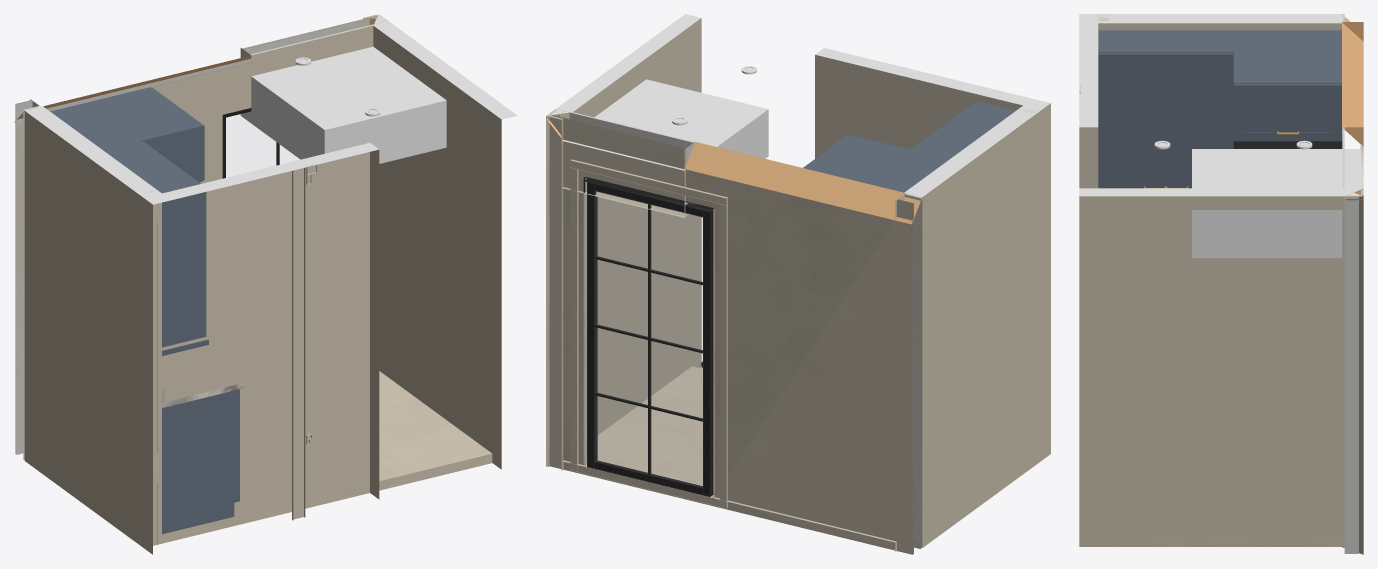
The model's file is laundry-771baf1cbd6a.glb.
3 renders of one model, left to right at view 1: azimuth 30°, elevation 25°; view 2: azimuth 150°, elevation 25°; view 3: azimuth 270°, elevation 25°, orthographic. The views are drawn at different scales.
Visible parts, largest first — view 1: laundry-8d8280a2b3ef8b4c, laundry-4fe5579be934d30a, laundry-7f59123d155b94ce, laundry-6cbc44f63f815149, laundry-3d7dc14daaac73cc, laundry-1b1650778d28d58a, laundry-cdbda69d535efec9, laundry-82fe871d7bda5383, laundry-684a2ef253b4909e, laundry-64efeecf845bccca, laundry-9a6873bb27e0e1d8, laundry-09f90213aa0a4493 (+4 smaller); view 2: laundry-bd62734a7bc60eb7, laundry-ca9c0b57f88e5741, laundry-4fe5579be934d30a, laundry-09f90213aa0a4493, laundry-7f59123d155b94ce, laundry-8d8280a2b3ef8b4c, laundry-6cbc44f63f815149, laundry-1b1650778d28d58a, laundry-9373e00609a5f856, laundry-341dc20a3e1bcc67, laundry-684a2ef253b4909e, laundry-9a6873bb27e0e1d8 (+3 smaller); view 3: laundry-7f59123d155b94ce, laundry-cdbda69d535efec9, laundry-6cbc44f63f815149, laundry-684a2ef253b4909e, laundry-9a6873bb27e0e1d8, laundry-4fe5579be934d30a, laundry-8d8280a2b3ef8b4c, laundry-1b1650778d28d58a, laundry-341dc20a3e1bcc67, laundry-82fe871d7bda5383, laundry-68ffb35c303c8d09.
Boxes of the visible parts, left/top/right/bottom form: laundry-8d8280a2b3ef8b4c: left=143, top=143, right=379, bottom=554; laundry-4fe5579be934d30a: left=24, top=106, right=161, bottom=547; laundry-7f59123d155b94ce: left=373, top=14, right=517, bottom=469; laundry-6cbc44f63f815149: left=240, top=46, right=446, bottom=163; laundry-3d7dc14daaac73cc: left=162, top=389, right=239, bottom=534; laundry-1b1650778d28d58a: left=160, top=371, right=492, bottom=543; laundry-cdbda69d535efec9: left=103, top=141, right=208, bottom=355; laundry-82fe871d7bda5383: left=23, top=24, right=374, bottom=311; laundry-684a2ef253b4909e: left=50, top=87, right=204, bottom=182; laundry-64efeecf845bccca: left=292, top=167, right=305, bottom=520; laundry-9a6873bb27e0e1d8: left=16, top=16, right=385, bottom=459; laundry-09f90213aa0a4493: left=222, top=108, right=299, bottom=178; laundry-bd62734a7bc60eb7: left=548, top=115, right=912, bottom=554; laundry-ca9c0b57f88e5741: left=549, top=115, right=913, bottom=554; laundry-4fe5579be934d30a: left=904, top=105, right=1041, bottom=547; laundry-09f90213aa0a4493: left=583, top=176, right=714, bottom=496; laundry-7f59123d155b94ce: left=546, top=14, right=701, bottom=466; laundry-8d8280a2b3ef8b4c: left=815, top=48, right=1050, bottom=460; laundry-6cbc44f63f815149: left=562, top=79, right=768, bottom=217; laundry-1b1650778d28d58a: left=562, top=366, right=896, bottom=551; laundry-9373e00609a5f856: left=570, top=159, right=727, bottom=508; laundry-341dc20a3e1bcc67: left=684, top=141, right=905, bottom=220; laundry-684a2ef253b4909e: left=803, top=135, right=949, bottom=192; laundry-9a6873bb27e0e1d8: left=549, top=109, right=920, bottom=553; laundry-7f59123d155b94ce: left=1079, top=188, right=1363, bottom=554; laundry-cdbda69d535efec9: left=1098, top=30, right=1233, bottom=188; laundry-6cbc44f63f815149: left=1192, top=149, right=1363, bottom=258; laundry-684a2ef253b4909e: left=1233, top=30, right=1342, bottom=141; laundry-9a6873bb27e0e1d8: left=1344, top=195, right=1358, bottom=553; laundry-4fe5579be934d30a: left=1098, top=14, right=1342, bottom=30; laundry-8d8280a2b3ef8b4c: left=1079, top=14, right=1098, bottom=188; laundry-1b1650778d28d58a: left=1098, top=537, right=1342, bottom=546; laundry-341dc20a3e1bcc67: left=1342, top=22, right=1363, bottom=146; laundry-82fe871d7bda5383: left=1342, top=14, right=1344, bottom=547; laundry-68ffb35c303c8d09: left=1233, top=141, right=1342, bottom=148.
Bounding box in the file's own units: 2.72 × 2.5 × 1.8.
Materials: 26 (3 with a texture image).
